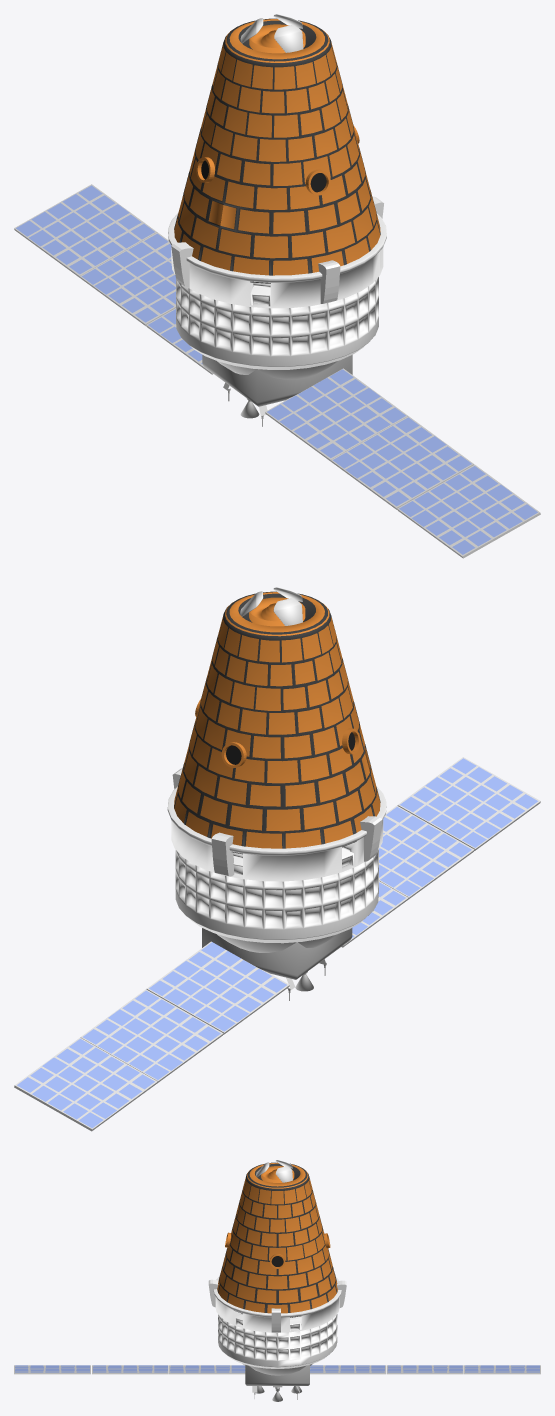
The model's file is gaganyaan vehicle.588cd0bc.glb.
3 views of the same model, one above another, from view 1: azimuth 30°, elevation 25°; view 2: azimuth 150°, elevation 25°; view 3: azimuth 270°, elevation 25° (orthographic). The views are drawn at different scales.
Visible parts, largest first — view 1: Cylinder, Cylinder.002, Plane.002, Plane.001, Plane.003, Plane, Cylinder.001, Plane.004, Cube, Plane.005, Sphere, Plane.012 (+3 smaller); view 2: Cylinder, Cylinder.002, Plane.003, Plane.002, Plane.004, Plane.005, Cylinder.001, Plane.001, Cube, Plane, Plane.010, Sphere (+3 smaller); view 3: Cylinder, Cylinder.002, Cylinder.001, Cube, Plane.004, Plane.001, Plane.002, Plane.003, Plane, Plane.005, Sphere.
Boxes of the visible parts, x1=… form: Cylinder: x1=174, y1=18, x2=380, y2=283; Cylinder.002: x1=176, y1=277, x2=378, y2=369; Plane.002: x1=397, y1=464, x2=540, y2=558; Plane.001: x1=331, y1=416, x2=474, y2=509; Plane.003: x1=14, y1=184, x2=157, y2=277; Plane: x1=265, y1=368, x2=407, y2=461; Cylinder.001: x1=168, y1=212, x2=386, y2=308; Plane.004: x1=80, y1=232, x2=175, y2=325; Cube: x1=202, y1=355, x2=352, y2=406; Plane.005: x1=146, y1=308, x2=212, y2=374; Sphere: x1=217, y1=361, x2=337, y2=379; Plane.012: x1=318, y1=260, x2=340, y2=303; Cylinder: x1=174, y1=591, x2=380, y2=854; Cylinder.002: x1=175, y1=848, x2=378, y2=943; Plane.003: x1=14, y1=1037, x2=157, y2=1131; Plane.002: x1=397, y1=757, x2=540, y2=850; Plane.004: x1=80, y1=989, x2=223, y2=1083; Plane.005: x1=146, y1=941, x2=289, y2=1034; Cylinder.001: x1=167, y1=786, x2=386, y2=881; Plane.001: x1=379, y1=805, x2=474, y2=899; Cube: x1=202, y1=928, x2=352, y2=979; Plane: x1=341, y1=881, x2=408, y2=947; Plane.010: x1=211, y1=832, x2=234, y2=876; Sphere: x1=217, y1=934, x2=336, y2=952; Cylinder: x1=217, y1=1162, x2=337, y2=1317; Cylinder.002: x1=218, y1=1314, x2=337, y2=1368; Cylinder.001: x1=213, y1=1277, x2=341, y2=1332; Cube: x1=245, y1=1365, x2=309, y2=1385; Plane.004: x1=386, y1=1365, x2=463, y2=1374; Plane.001: x1=92, y1=1365, x2=168, y2=1374; Plane.002: x1=14, y1=1365, x2=90, y2=1374; Plane.003: x1=464, y1=1365, x2=540, y2=1374; Plane: x1=169, y1=1365, x2=245, y2=1374; Plane.005: x1=310, y1=1365, x2=385, y2=1374; Sphere: x1=242, y1=1313, x2=312, y2=1375.
Bounding box in the file's own units: 3.59 × 6.51 × 13.7.
